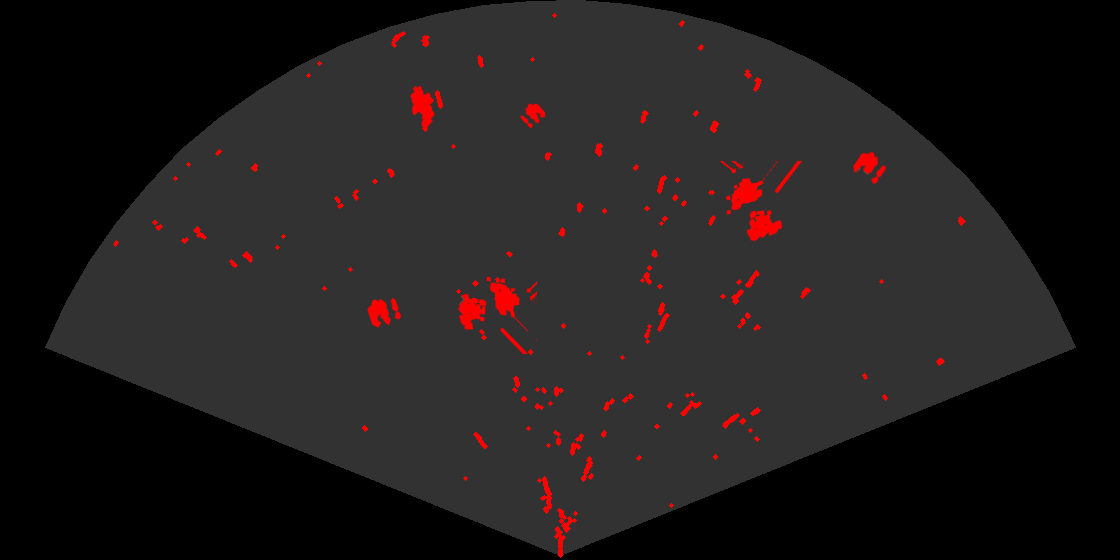AUV: (409, 84, 436, 134)
ball: (851, 150, 888, 186), (366, 296, 403, 329), (519, 102, 547, 130)
cage: (718, 161, 803, 243), (457, 275, 537, 354)
